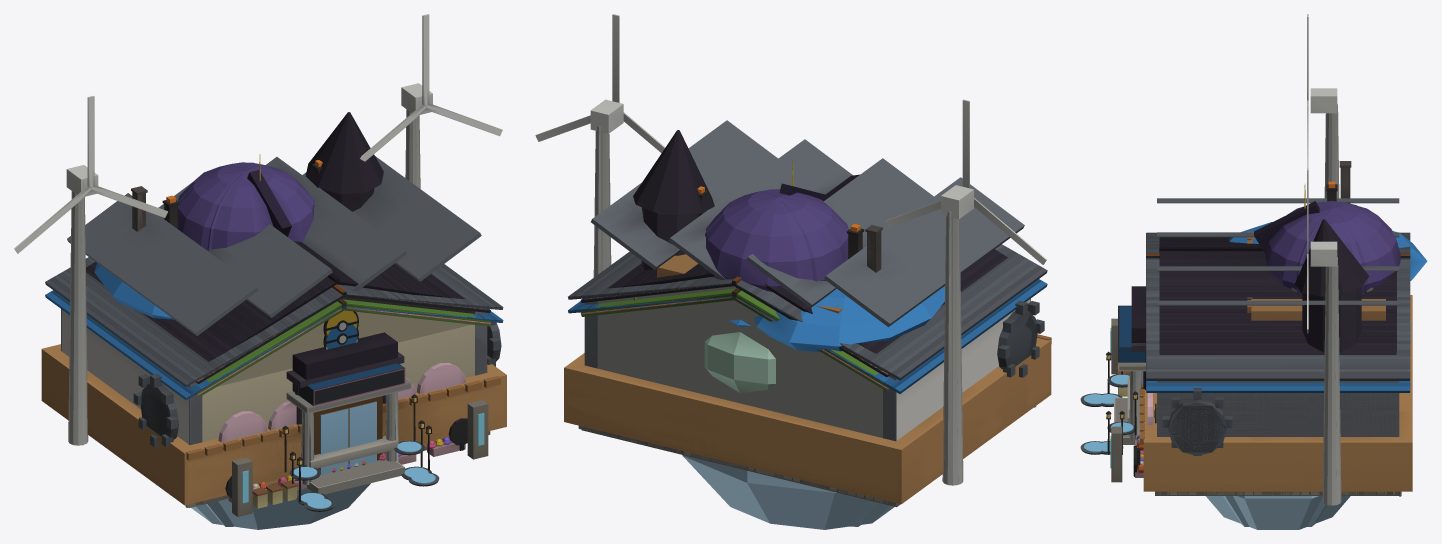
The model's file is gyms.glb.
3 renders of one model, left to right at view 1: azimuth 30°, elevation 25°; view 2: azimuth 150°, elevation 25°; view 3: azimuth 270°, elevation 25°, orthographic. The views are drawn at different scales.
Parts seen in each view (by area): view 1: gym_steel, gym_ground, gym_electric, gym_ghost, gym_bug__lod, gym_psychic, gym_water, gym_ground__lod, gym_steel__lod, gym_ice, gym_ghost__lod, gym_electric__lod (+7 smaller); view 2: gym_steel, gym_electric__lod, gym_ground, gym_ground__lod, gym_water, gym_psychic, gym_electric, gym_ghost, gym_steel__lod, gym_ice, gym_bug, gym_bug__lod (+1 smaller); view 3: gym_steel, gym_ghost, gym_steel__lod, gym_ground__lod, gym_ground, gym_psychic, gym_electric, gym_water, gym_ice, gym_electric__lod, gym_psychic__lod, gym_ghost__lod (+2 smaller).
Part boxes in pixels (x1,y1,x2,y2): gym_steel: [45, 157, 502, 507]; gym_ground: [43, 346, 503, 511]; gym_electric: [14, 14, 502, 504]; gym_ghost: [86, 112, 465, 480]; gym_bug__lod: [197, 298, 491, 508]; gym_psychic: [178, 162, 489, 514]; gym_water: [45, 263, 503, 504]; gym_ground__lod: [41, 344, 506, 510]; gym_steel__lod: [45, 156, 503, 454]; gym_ice: [191, 402, 436, 529]; gym_ghost__lod: [232, 112, 442, 479]; gym_electric__lod: [14, 14, 502, 466]; gym_steel: [568, 121, 1047, 440]; gym_electric__lod: [535, 14, 1046, 481]; gym_ground: [567, 255, 1050, 499]; gym_ground__lod: [564, 254, 1051, 504]; gym_water: [568, 279, 1046, 505]; gym_psychic: [581, 187, 881, 502]; gym_electric: [536, 14, 1046, 485]; gym_ghost: [608, 130, 1007, 353]; gym_steel__lod: [568, 120, 1047, 506]; gym_ice: [682, 455, 894, 529]; gym_bug: [592, 288, 882, 502]; gym_bug__lod: [580, 288, 887, 390]; gym_steel: [1105, 166, 1410, 496]; gym_ghost: [1107, 219, 1396, 435]; gym_steel__lod: [1118, 161, 1410, 495]; gym_ground__lod: [1081, 231, 1412, 491]; gym_ground: [1080, 232, 1409, 487]; gym_psychic: [1113, 201, 1400, 480]; gym_electric: [1099, 14, 1341, 505]; gym_water: [1102, 222, 1427, 494]; gym_ice: [1081, 354, 1350, 529]; gym_electric__lod: [1118, 14, 1337, 482]; gym_psychic__lod: [1111, 201, 1368, 482]; gym_ghost__lod: [1107, 246, 1262, 434].
Size of the model in its own units: 39.37 by 34.8 by 25.8.
